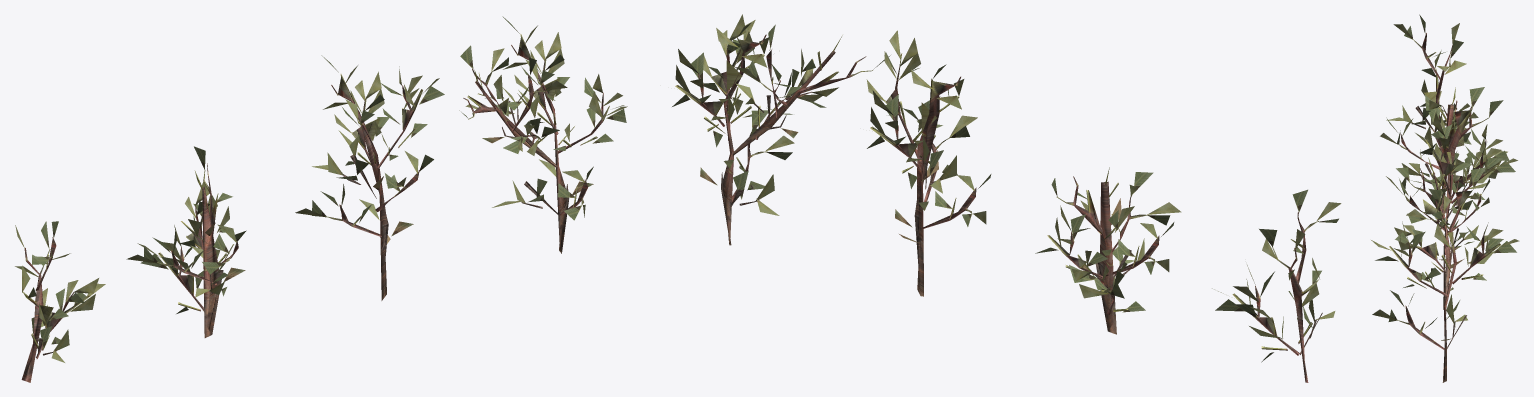
File: shrub_b.glb
3 views of the same model, side by side, from view 1: azimuth 30°, elevation 25°; view 2: azimuth 150°, elevation 25°; view 3: azimuth 270°, elevation 25° (orthographic). The views are drawn at different scales.
Parts seen in each view (by area): view 1: shrub_04; view 2: shrub_04; view 3: shrub_04.
Boxes of the visible parts, bbox=[...] form: shrub_04: bbox=[15, 16, 627, 382]; shrub_04: bbox=[672, 14, 1341, 382]; shrub_04: bbox=[1371, 14, 1519, 382].
Bounding box in the file's own units: 4.27 × 1.64 × 1.08.
1 material, 1 textured.
